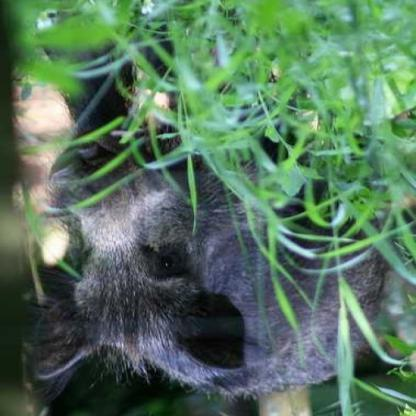boar: (40, 80, 391, 383)
